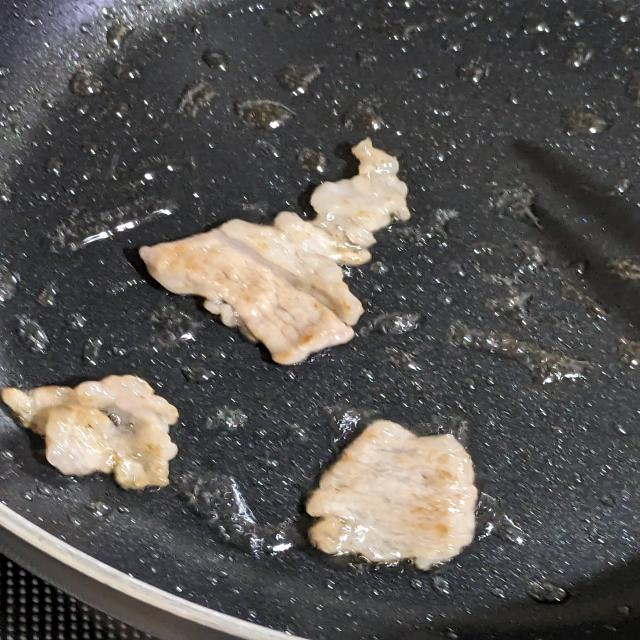OK cooked pork,: (118, 125, 423, 377), (289, 402, 484, 583), (2, 365, 183, 496)
